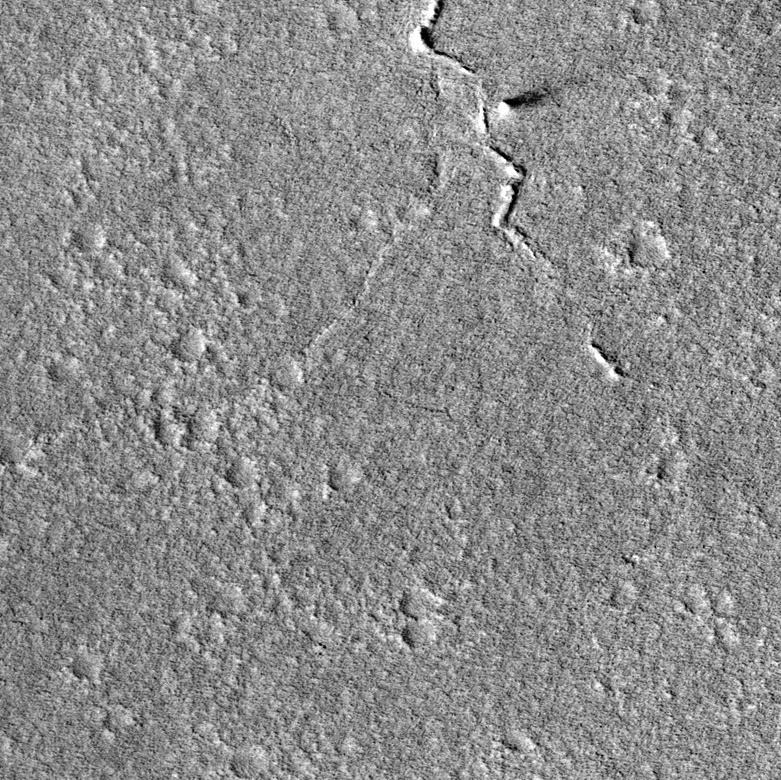dust_devil: (491, 83, 563, 121)
